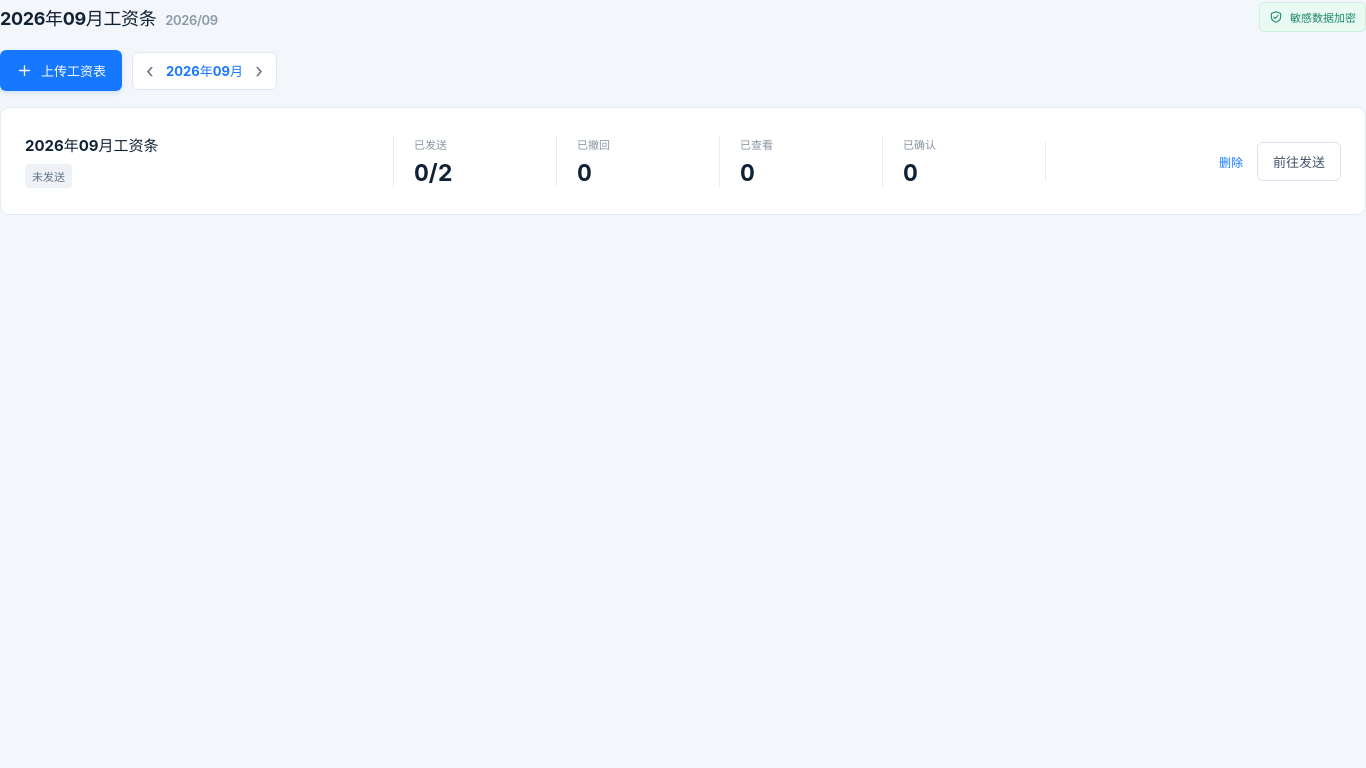
Test case: salary management › shows a delete API failure inside the confirmation dialog
Click the button "删除": (1231, 161) [1219,150,1243,172]
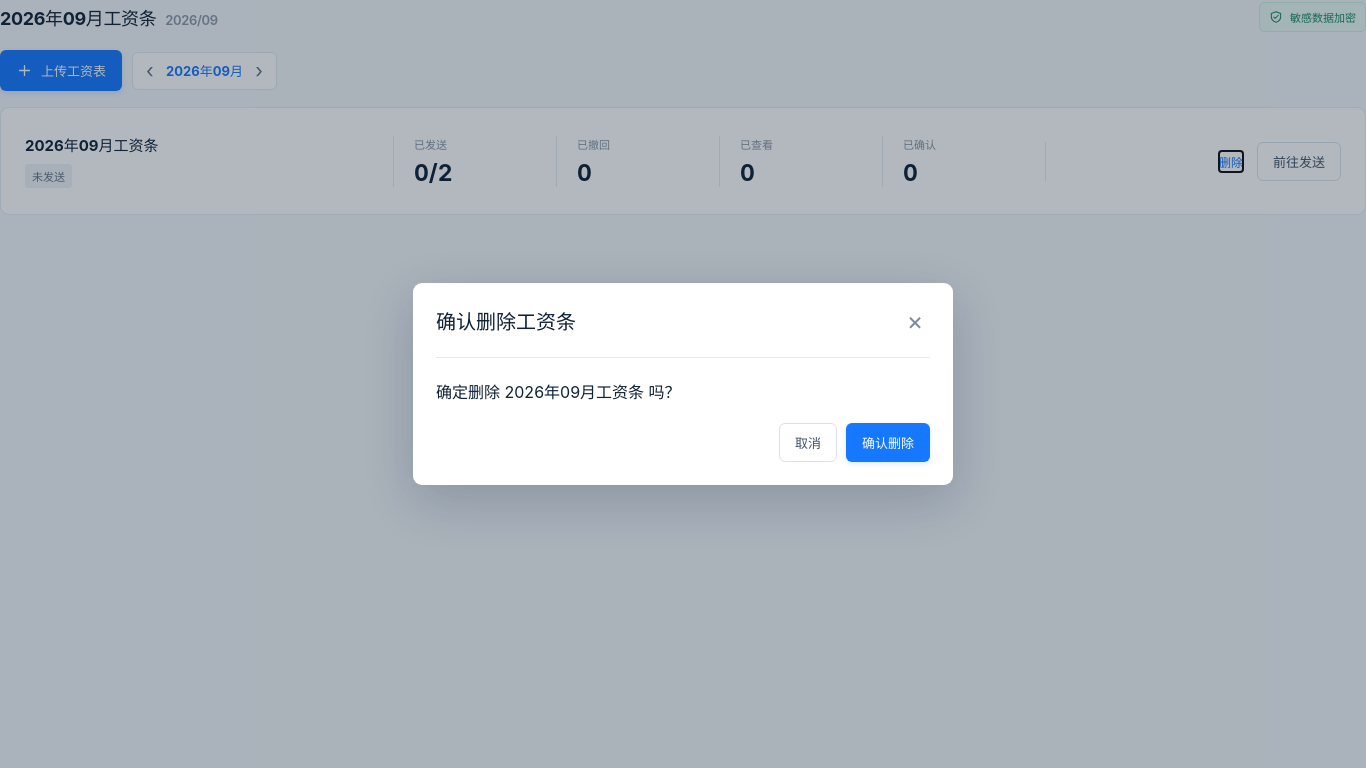
Click the button "确认删除": (888, 442) [846,423,930,462]
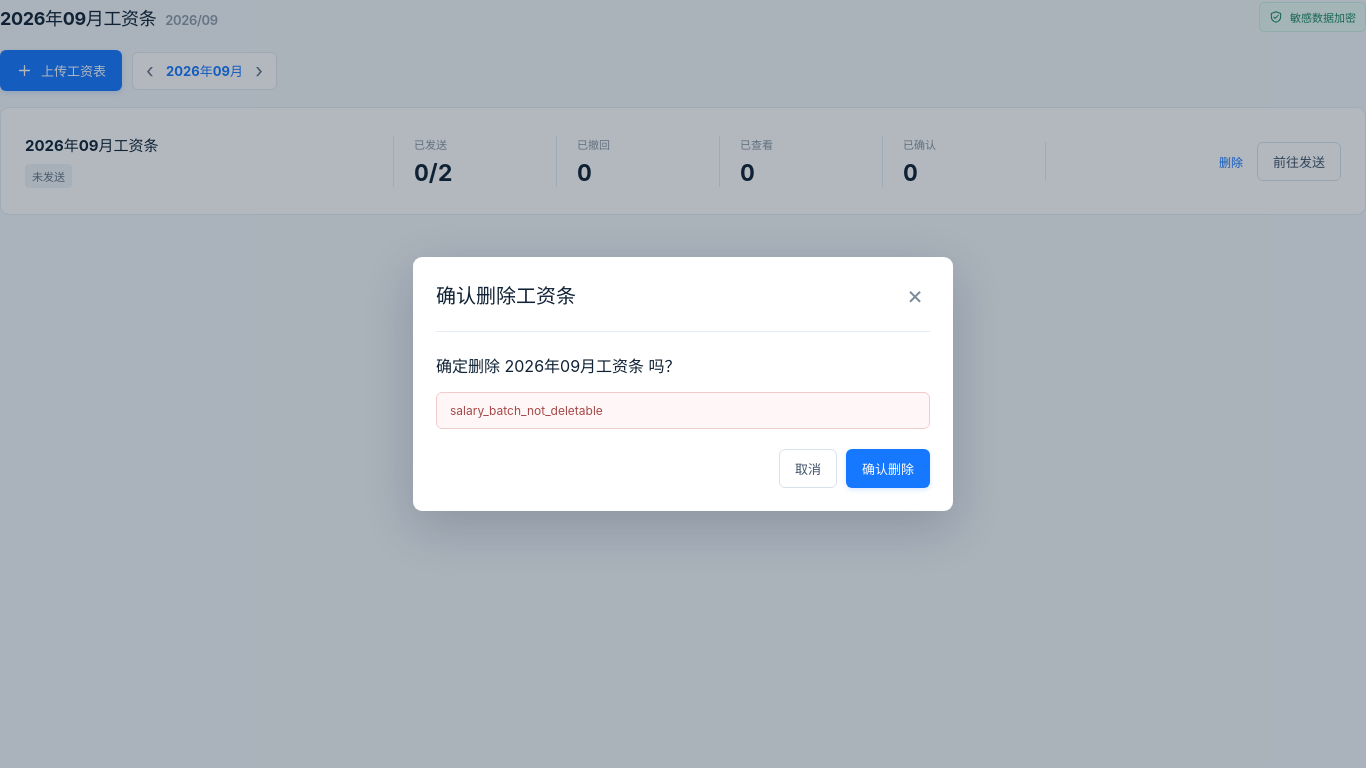
Check: the text "salary_batch_not_deletable" is shown, box [436,392,930,429]
